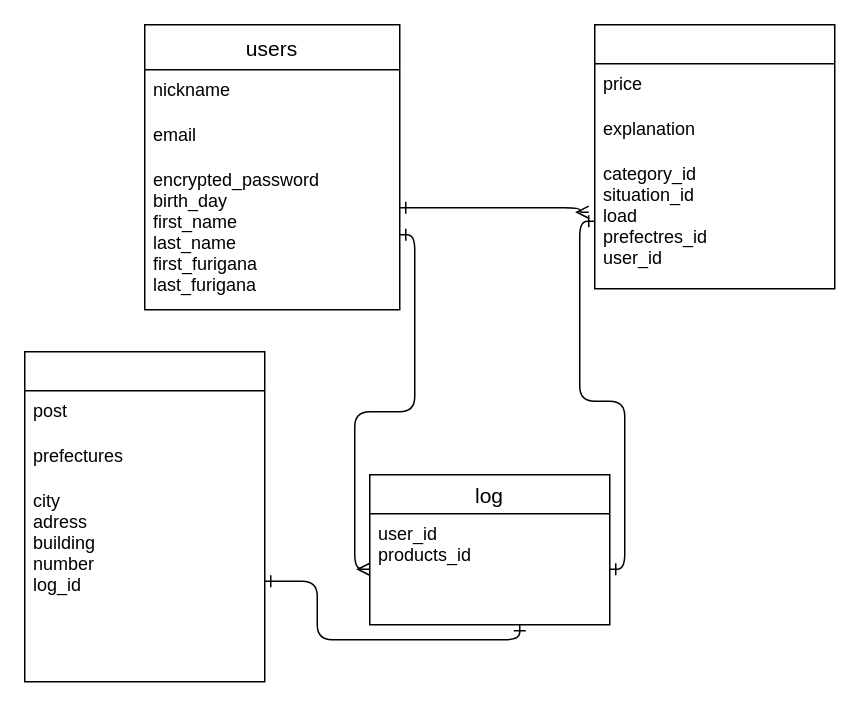
Image size: 860x707. Some labels were removed from this diagram. The box of each missing label's shape, as (x1, y1, x2, y2) in pixels:
products: (593, 23, 835, 289)
shipping: (23, 350, 265, 682)
